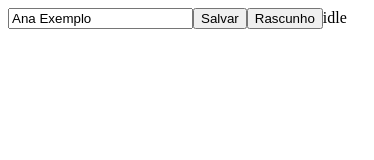
Scenario: useSubmit › falha: estado error, texto, onError, foco no botão e form editável
Later steps or results of the test are not shown.
Click the button "Salvar" at point(220, 18), box [193, 8, 247, 29]
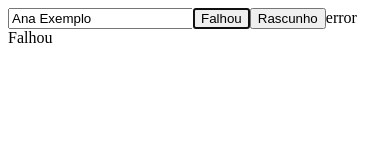
Expected: the field named "Nome" is enabled, [8, 8, 193, 29]
Now the button "Falhou" has attribute data-state="error", box [193, 8, 250, 29]
